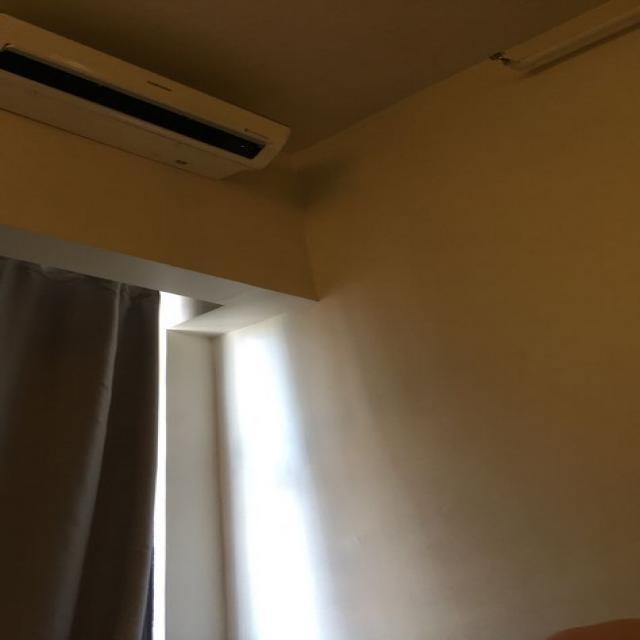AC: (0, 10, 292, 181)
